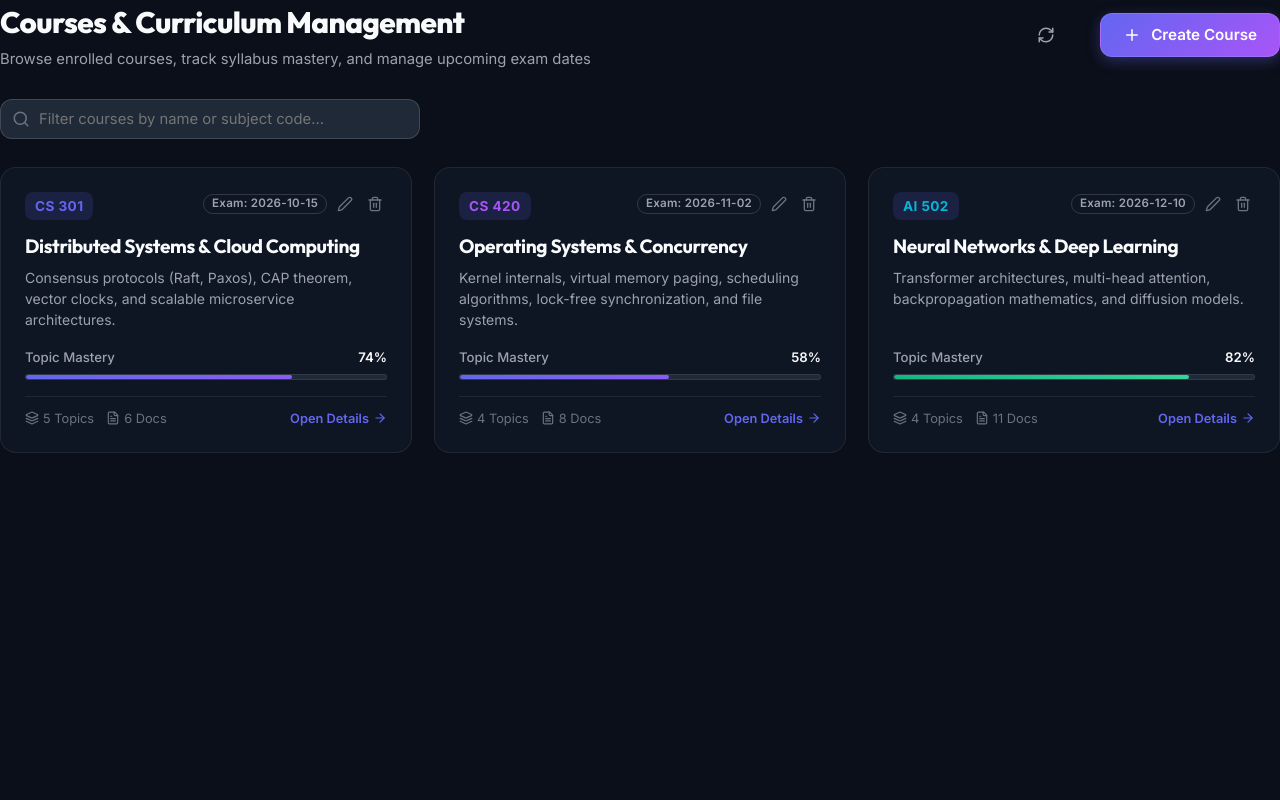
Test: Courses & Curriculum Tests (Items 4, 5) › 4. Course creation modal opens and renders required input fields
This screenshot has width=1280, height=800.
Click the button "Create Course".
click(1190, 35)  # box [1100,13,1279,57]
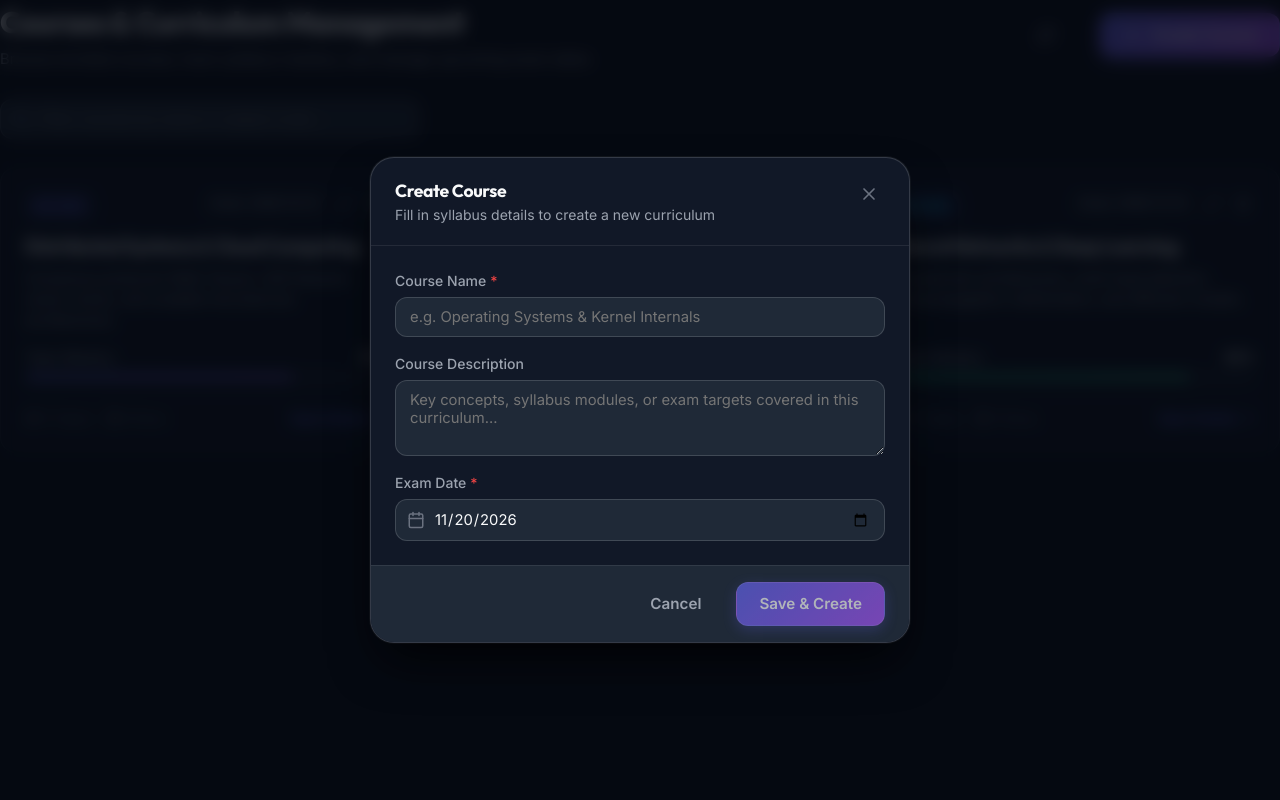
Expected: the text "Fill in syllabus details to create a new curriculum" is shown, [395,204,715,225]
Expected: the field with placeholder "e.g. Operating Systems & Kernel Internals" is shown, [395,297,885,337]
